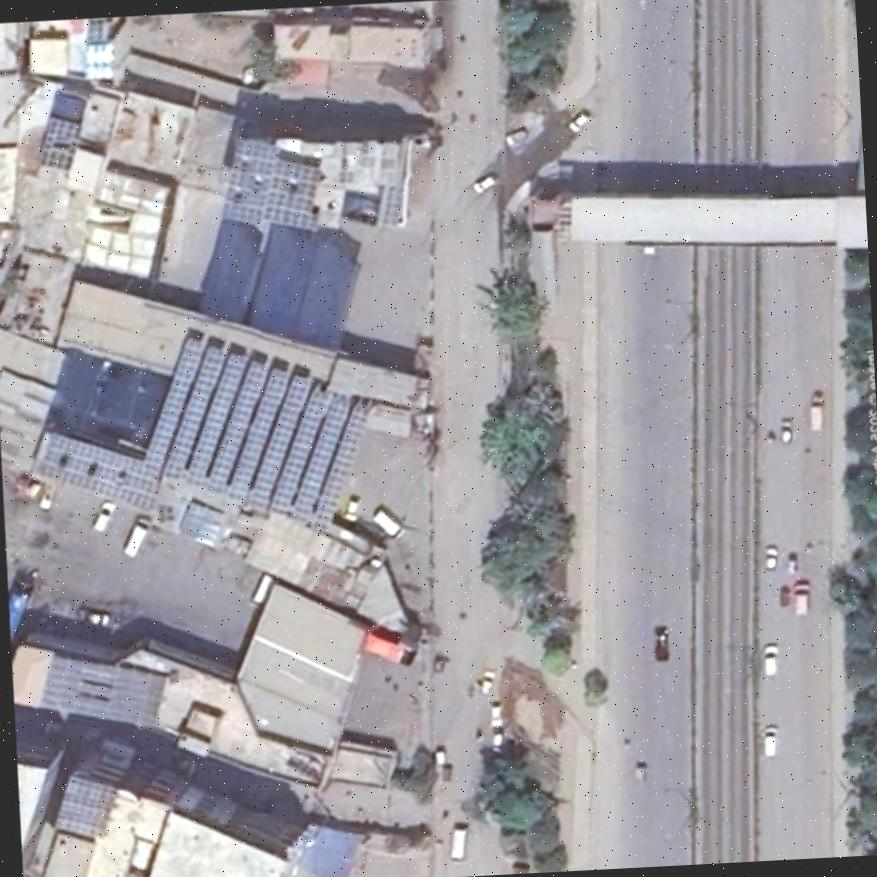Solarpanel: (34, 433, 161, 508), (220, 138, 322, 226), (246, 375, 310, 512), (37, 655, 162, 723), (228, 364, 290, 501), (161, 345, 224, 477), (183, 354, 245, 488), (138, 337, 200, 470), (269, 386, 333, 514), (290, 397, 352, 523), (310, 400, 369, 530), (208, 362, 267, 490), (56, 778, 117, 836), (40, 117, 77, 168), (85, 43, 115, 82)
